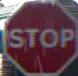Stop: (3, 0, 77, 75)
